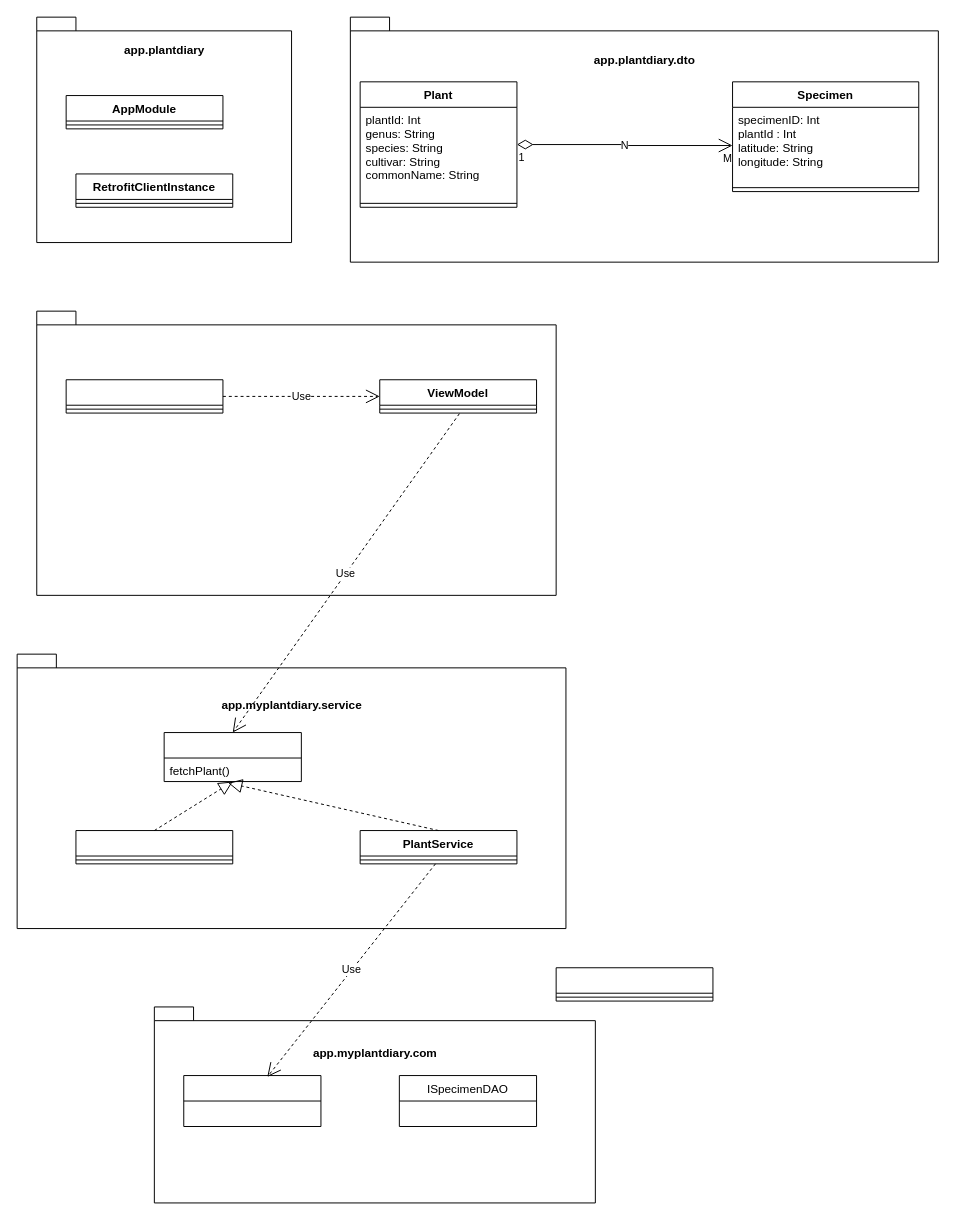
This 956x1220 diagram has some shape labels left out. The box of each missing label's shape, as (x1, y1, x2, y2) in pixels:
app.plantdiary.ui: (36, 310, 556, 595)
IPlantDAO: (183, 1075, 321, 1127)
IPlantService: (163, 732, 301, 782)
MainActivity: (65, 379, 223, 413)
PlantServiceStub: (75, 830, 233, 864)
RoomDatabase: (555, 967, 713, 1001)
